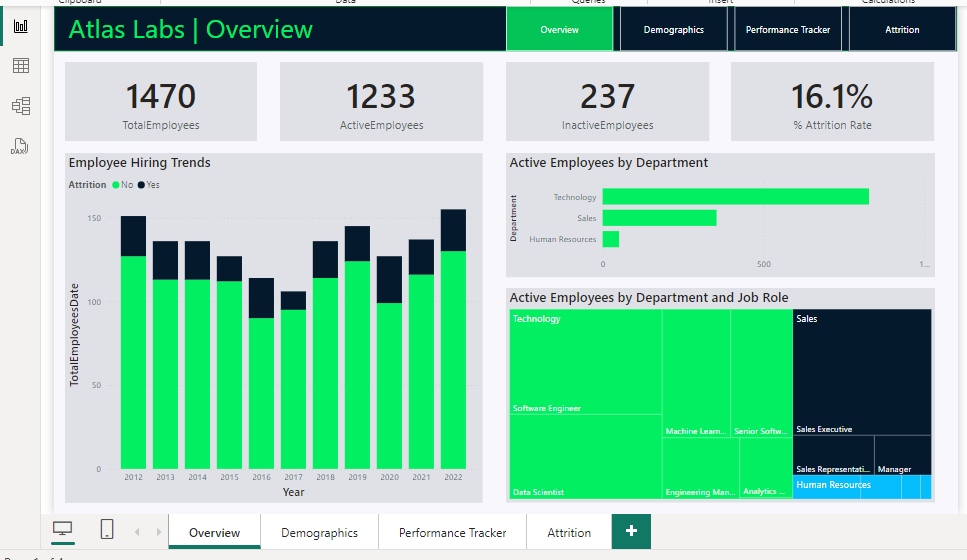

This screenshot's page, from the dashboard's own definition file:
{"tool":"powerbi","page":{"name":"Overview","canvas":[1280,720],"ordinal":0},"visuals":[{"type":"card","fields":{"Values":["_Measures.TotalEmployees"]},"box":[16,80,272,112],"z":0},{"type":"card","fields":{"Values":["_Measures.ActiveEmployees"]},"box":[320,80,288,112],"z":1000},{"type":"card","fields":{"Values":["_Measures.InactiveEmployees"]},"box":[640,80,288,112],"z":2000},{"type":"card","fields":{"Values":["_Measures.% Attrition Rate"]},"box":[960,80,288,112],"z":3000},{"type":"columnChart","title":"Employee Hiring Trends","fields":{"Category":["DimDate.Date.Variation.Date Hierarchy.Year","DimDate.Date.Variation.Date Hierarchy.Quarter","DimDate.Date.Variation.Date Hierarchy.Month","DimDate.Date.Variation.Date Hierarchy.Day"],"Y":["_Measures.TotalEmployeesDate"],"Series":["DimEmployee.Attrition"]},"box":[16,208,592,496],"z":4000},{"type":"clusteredBarChart","title":"Active Employees by Department","fields":{"Category":["DimEmployee.Department"],"Y":["_Measures.ActiveEmployees"]},"box":[640,208,608,176],"z":5000},{"type":"treemap","title":"Active Employees by Department and Job Role","fields":{"Values":["_Measures.ActiveEmployees"],"Group":["DimEmployee.Department"],"Details":["DimEmployee.JobRole"]},"box":[640,400,608,304],"z":6000},{"type":"shape","box":[0,0,1280,64],"z":7000},{"type":"textbox","box":[16,0,448,64],"z":8000},{"type":"pageNavigator","box":[640,0,640,64],"z":9000}]}

Visuals, with their boxes on the page's 1280x720 design canvas (x1, y1, x2, y2). These are canvas units, not pixel positions in the 967x560 screenshot, which may show the page scaled, cropped or inside an application window:
card - _Measures.TotalEmployees: (left=16, top=80, right=288, bottom=192)
card - _Measures.ActiveEmployees: (left=320, top=80, right=608, bottom=192)
card - _Measures.InactiveEmployees: (left=640, top=80, right=928, bottom=192)
card - _Measures.% Attrition Rate: (left=960, top=80, right=1248, bottom=192)
"Employee Hiring Trends" columnChart: (left=16, top=208, right=608, bottom=704)
"Active Employees by Department" clusteredBarChart: (left=640, top=208, right=1248, bottom=384)
"Active Employees by Department and Job Role" treemap: (left=640, top=400, right=1248, bottom=704)
shape: (left=0, top=0, right=1280, bottom=64)
textbox: (left=16, top=0, right=464, bottom=64)
pageNavigator: (left=640, top=0, right=1280, bottom=64)
